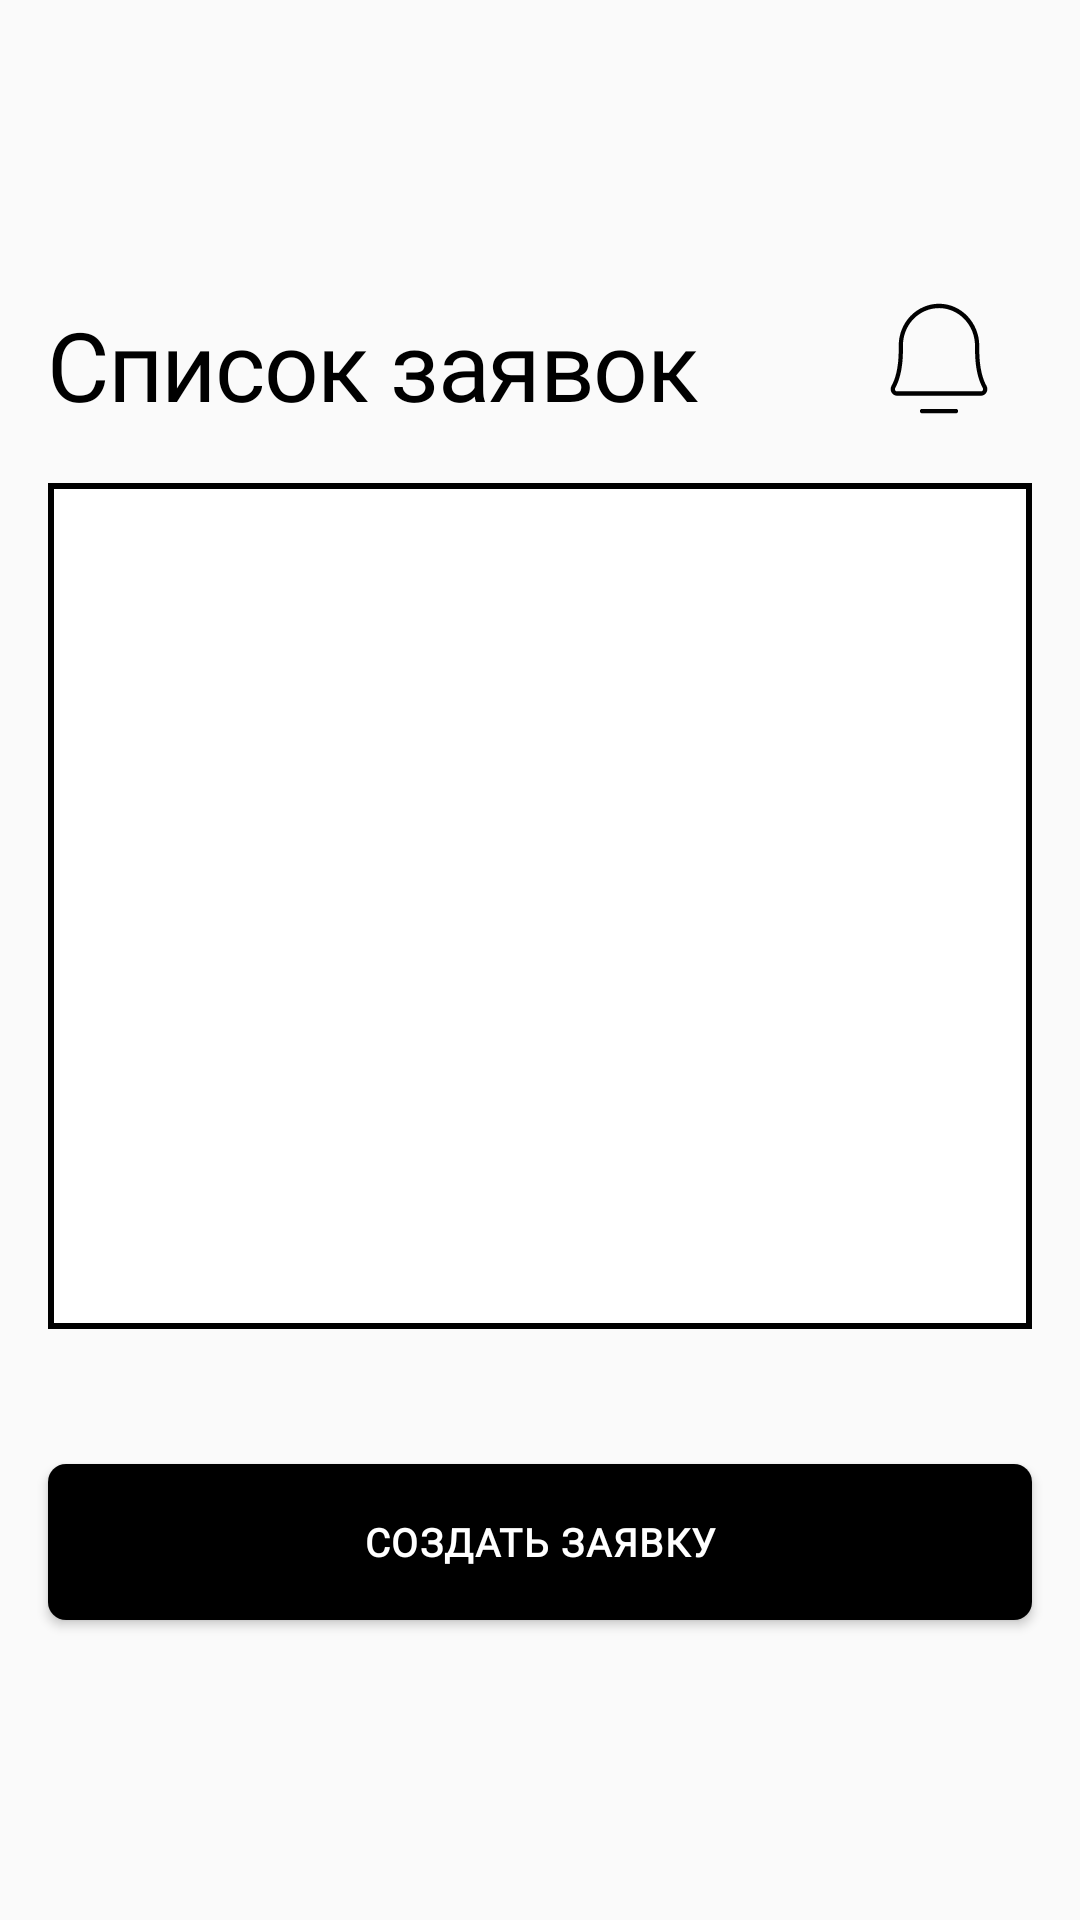

Icon bounding boxes for this 1080x1920 phone screenshot, format {"x1": x1, "y1": y1, "x2": x2, "y2": y2}:
bell: {"x1": 890, "y1": 303, "x2": 988, "y2": 414}
